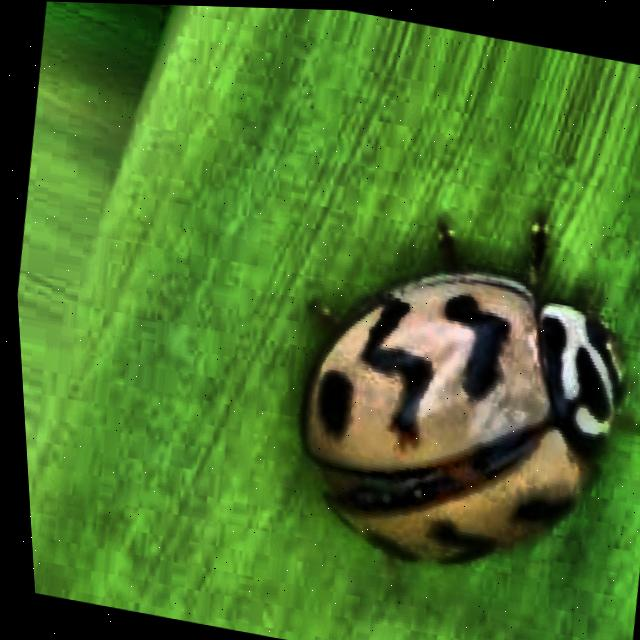Asian-Lady-beetle: (119, 114, 640, 640)
